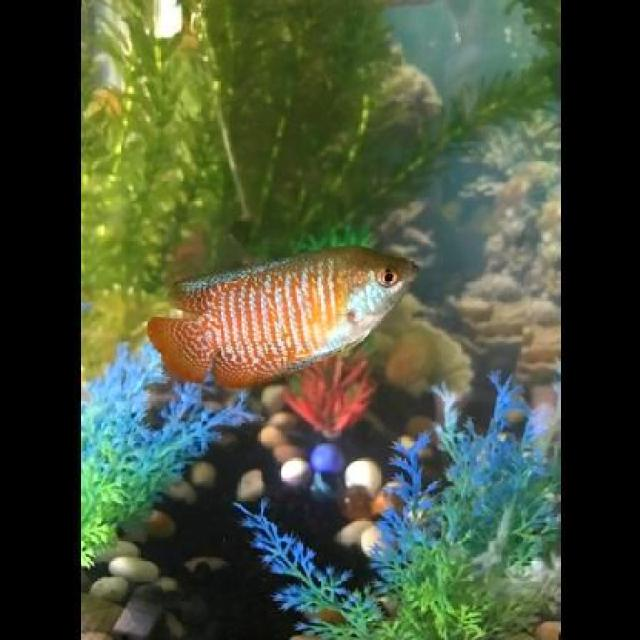Gourami: (144, 240, 422, 394)
